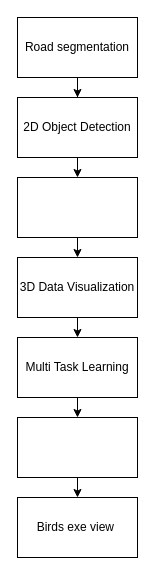
Image size: 155x575. Some labels were removed from this diagram. Each missing label, with the centre of its shape:
"3D Object Detection" goes at [77,447].
"Object Tracking" goes at [77,207].
